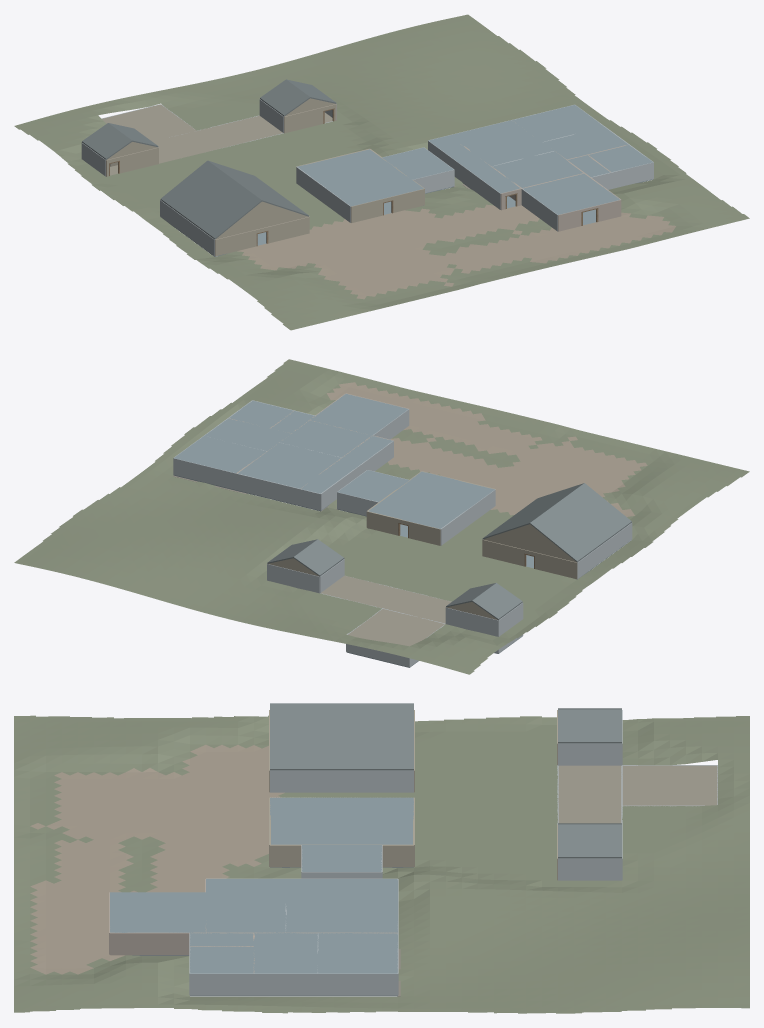
The model's file is authored-grounds.glb.
3 views of the same model, one above another, from view 1: azimuth 30°, elevation 25°; view 2: azimuth 150°, elevation 25°; view 3: azimuth 270°, elevation 25° (orthographic). The views are drawn at different scales.
Visible parts, largest first — view 1: WLD-07-MORTUARY saved ground, WLD-07-MORTUARY chapel west slope, Ceiling cap cottage, WLD-07-MORTUARY ossuary full deck region0, Ceiling cap mort-viewing, Ceiling cap mort-bay, Ceiling cap mort-prep, Ceiling cap mort-reception, WLD-07-MORTUARY archive full cover region0, Ceiling cap mort-hall, Ceiling cap mort-cold, Ceiling cap mort-office (+17 smaller); view 2: WLD-07-MORTUARY saved ground, WLD-07-MORTUARY chapel west slope, Ceiling cap cottage, WLD-07-MORTUARY ossuary full deck region0, Ceiling cap mort-viewing, Ceiling cap mort-bay, WLD-07-MORTUARY archive full cover region0, Ceiling cap mort-prep, Ceiling cap mort-reception, Ceiling cap mort-cold, Ceiling cap mort-office, Ceiling cap mort-hall (+18 smaller); view 3: WLD-07-MORTUARY saved ground, WLD-07-MORTUARY chapel east slope, Ceiling cap cottage, Ceiling cap mort-viewing, Ceiling cap mort-bay, WLD-07-MORTUARY archive full cover region0, WLD-07-MORTUARY ossuary full deck region0, Wall chapel E, Ceiling cap mort-reception, Ceiling cap mort-prep, Ceiling cap mort-hall, Ceiling cap mort-cold (+13 smaller).
Boxes of the visible parts, x1=… form: WLD-07-MORTUARY saved ground: x1=14, y1=14, x2=749, y2=330; WLD-07-MORTUARY chapel west slope: x1=160, y1=160, x2=261, y2=239; Ceiling cap cottage: x1=297, y1=149, x2=423, y2=206; WLD-07-MORTUARY ossuary full deck region0: x1=153, y1=115, x2=282, y2=163; Ceiling cap mort-viewing: x1=449, y1=120, x2=553, y2=166; Ceiling cap mort-bay: x1=523, y1=173, x2=620, y2=214; Ceiling cap mort-prep: x1=512, y1=105, x2=603, y2=142; Ceiling cap mort-reception: x1=492, y1=151, x2=582, y2=187; WLD-07-MORTUARY archive full cover region0: x1=102, y1=104, x2=196, y2=141; Ceiling cap mort-hall: x1=428, y1=135, x2=520, y2=193; Ceiling cap mort-cold: x1=543, y1=127, x2=628, y2=159; Ceiling cap mort-office: x1=567, y1=144, x2=652, y2=177; WLD-07-MORTUARY saved ground: x1=14, y1=359, x2=749, y2=674; WLD-07-MORTUARY chapel west slope: x1=530, y1=483, x2=631, y2=562; Ceiling cap cottage: x1=368, y1=471, x2=494, y2=528; WLD-07-MORTUARY ossuary full deck region0: x1=321, y1=575, x2=451, y2=623; Ceiling cap mort-viewing: x1=238, y1=442, x2=341, y2=488; Ceiling cap mort-bay: x1=310, y1=394, x2=408, y2=435; WLD-07-MORTUARY archive full cover region0: x1=348, y1=609, x2=445, y2=646; Ceiling cap mort-prep: x1=174, y1=436, x2=266, y2=472; Ceiling cap mort-reception: x1=279, y1=420, x2=371, y2=457; Ceiling cap mort-cold: x1=204, y1=418, x2=290, y2=450; Ceiling cap mort-office: x1=229, y1=400, x2=314, y2=433; Ceiling cap mort-hall: x1=300, y1=436, x2=392, y2=493; WLD-07-MORTUARY saved ground: x1=14, y1=715, x2=749, y2=1013; WLD-07-MORTUARY chapel east slope: x1=270, y1=703, x2=413, y2=770; Ceiling cap cottage: x1=270, y1=797, x2=413, y2=844; Ceiling cap mort-viewing: x1=286, y1=892, x2=397, y2=932; Ceiling cap mort-bay: x1=110, y1=892, x2=205, y2=932; WLD-07-MORTUARY archive full cover region0: x1=622, y1=765, x2=717, y2=805; WLD-07-MORTUARY ossuary full deck region0: x1=558, y1=765, x2=621, y2=823; Wall chapel E: x1=270, y1=770, x2=413, y2=792; Ceiling cap mort-reception: x1=206, y1=892, x2=285, y2=932; Ceiling cap mort-prep: x1=318, y1=933, x2=397, y2=973; Ceiling cap mort-hall: x1=206, y1=879, x2=397, y2=892; Ceiling cap mort-cold: x1=254, y1=933, x2=317, y2=973.
Size of the model in its own units: 88 by 11.28 by 92.
30 materials, 19 textured.
